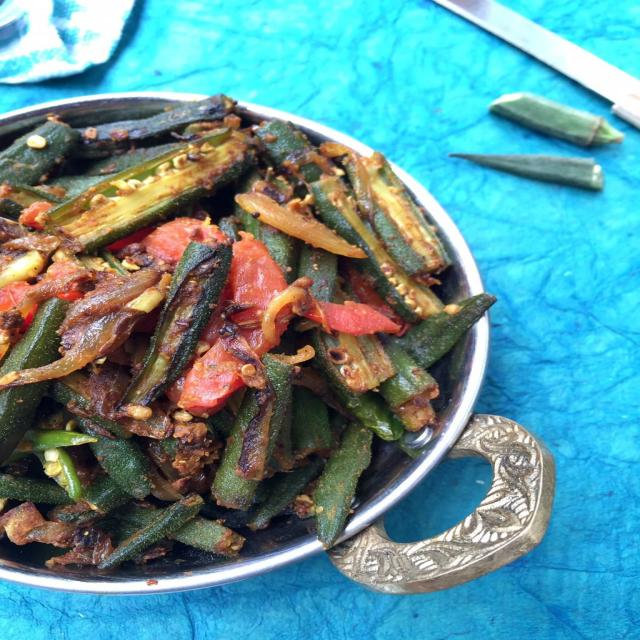Bhindi Masala: (0, 88, 479, 575)
